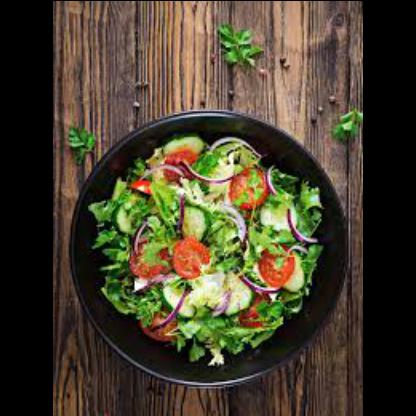salad: (88, 134, 324, 366)
